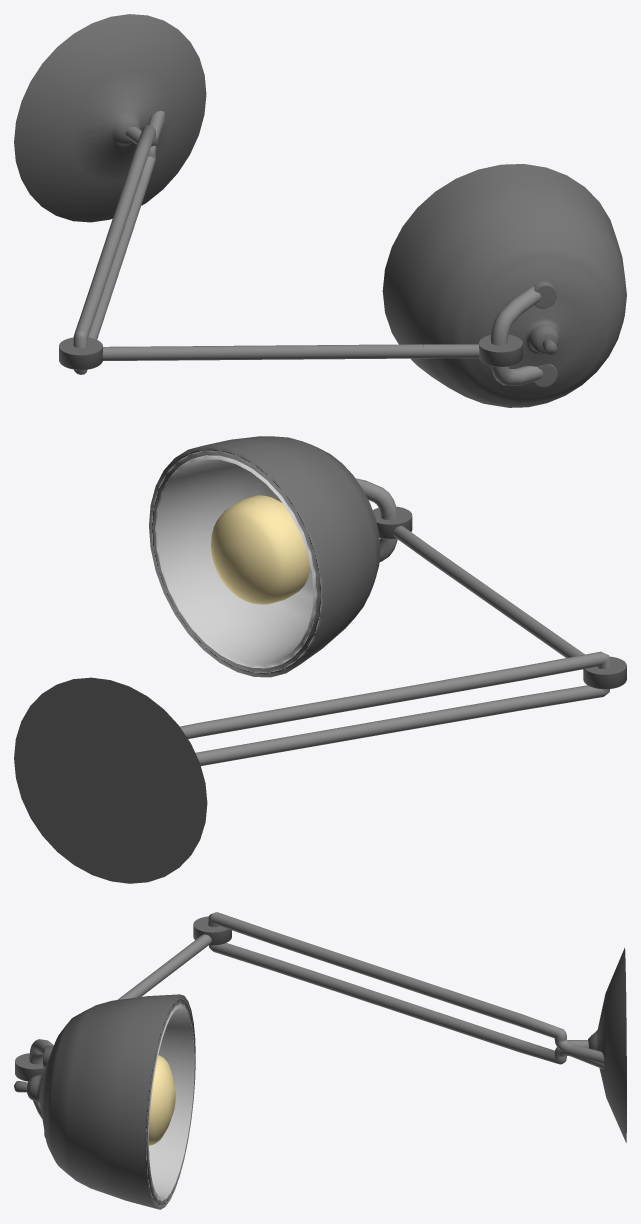
File: Table lamp1.gltf
The picture shows the model from 3 angles, top to bottom: view 1: azimuth 30°, elevation 25°; view 2: azimuth 150°, elevation 25°; view 3: azimuth 270°, elevation 25°; orthographic projection. The views are drawn at different scales.
Visible parts, largest first — view 1: node-0; view 2: node-0; view 3: node-0.
Part boxes in pixels (x1,y1,x2,y2): node-0: (14,14,626,407); node-0: (14,436,626,883); node-0: (14,912,626,1209).
Bounding box in the file's own units: 3.44 × 1.42 × 4.01.
